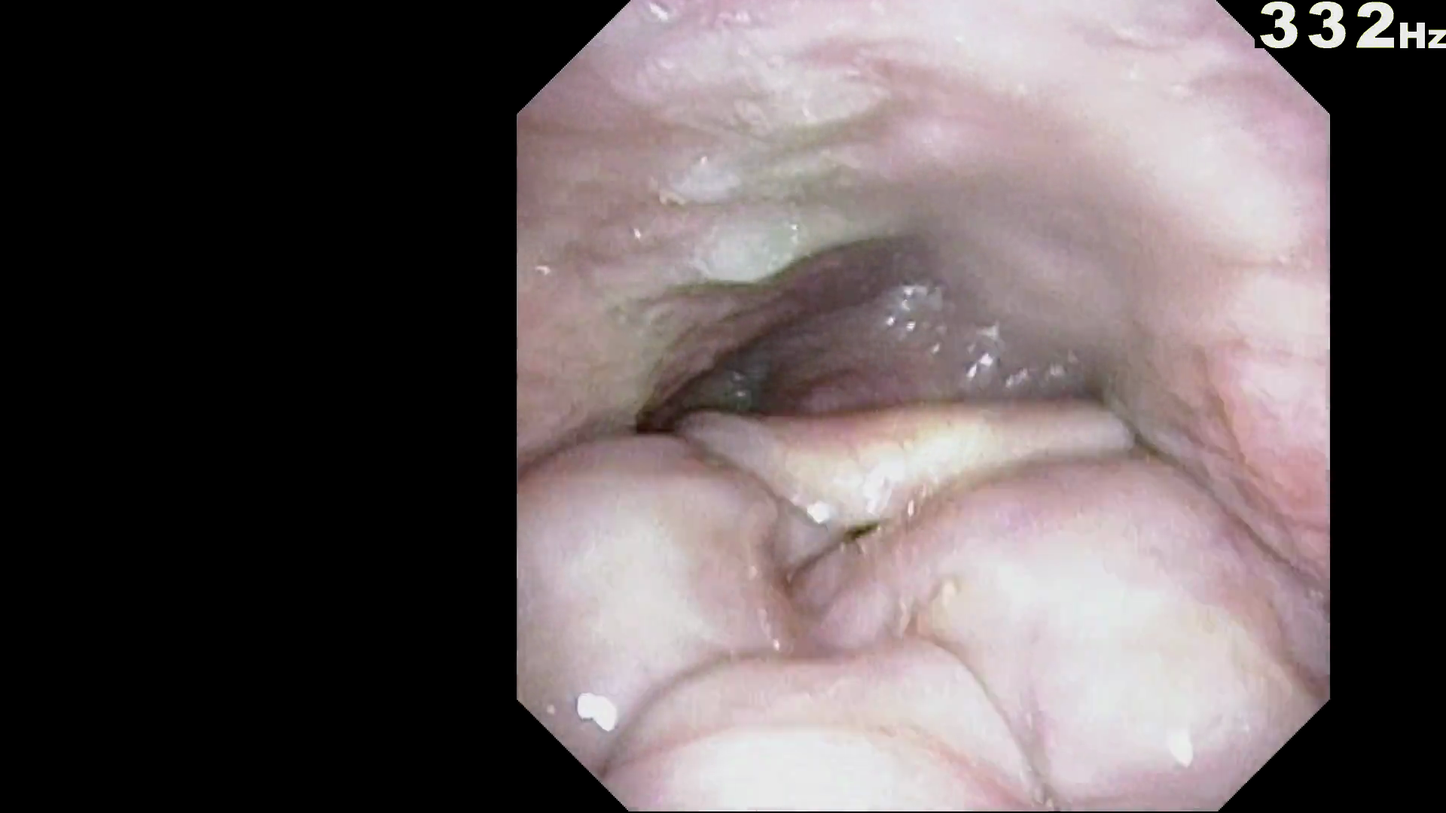epiglottis: (656, 402, 1113, 525)
trachea: (859, 417, 982, 514)
